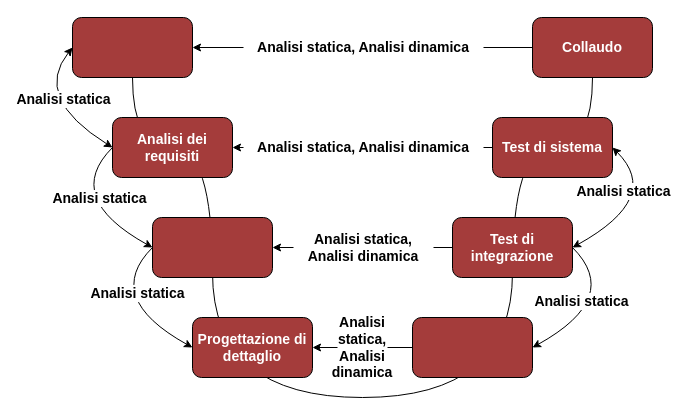
The diagram is 688 pixels wide and 415 high, and some of its shapes have lost their labels. Each missing label, with the centre of its shape:
"Capitolato" belongs at [132,47].
"Progettazione logica" belongs at [212,247].
"Test di unità" belongs at [472,347].
